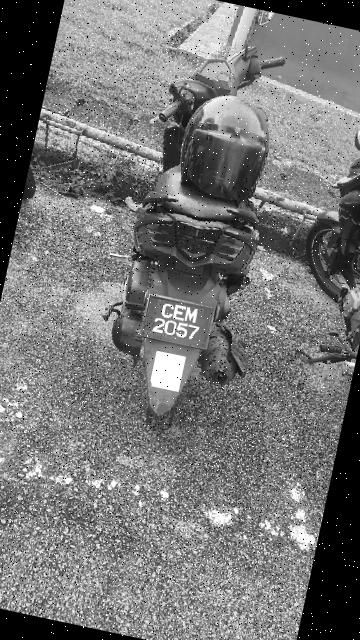License_Plate: (125, 287, 243, 368)
motorcycle: (60, 14, 337, 459)
